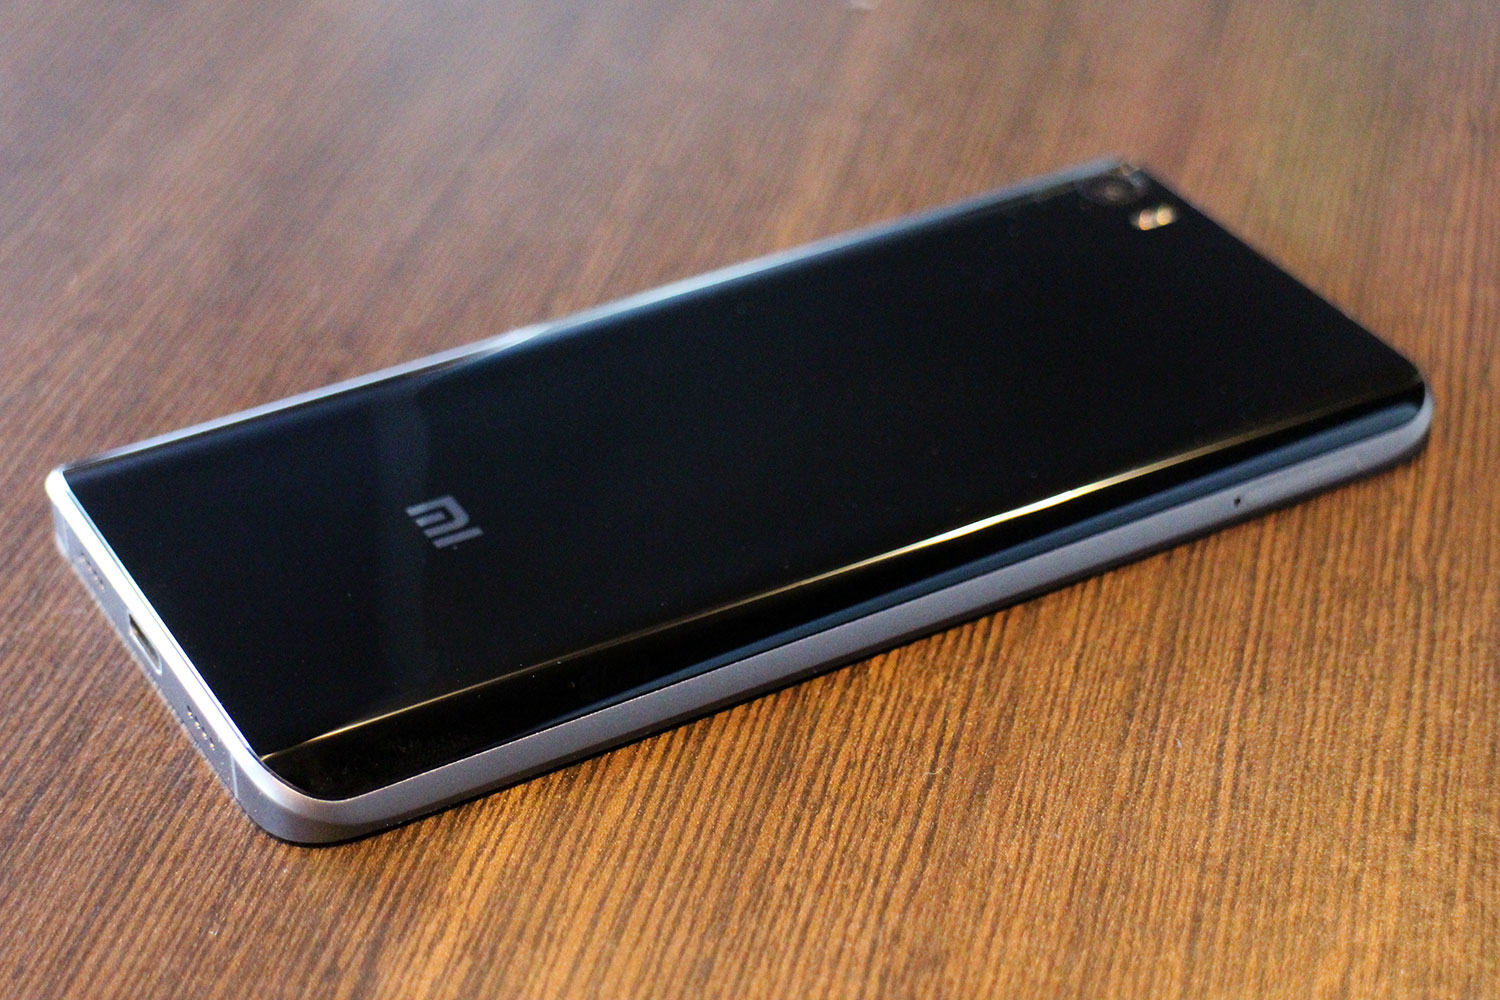smartphone: (45, 157, 1434, 846)
